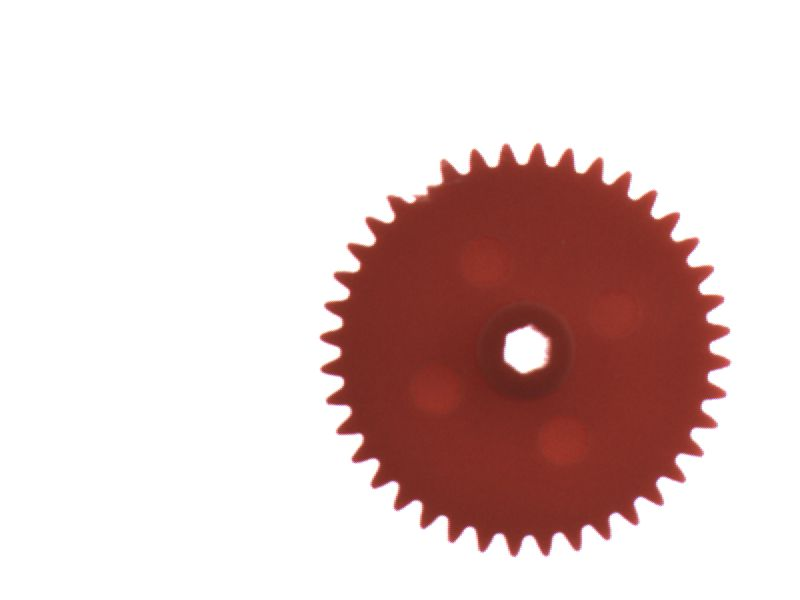defect_lack: (388, 156, 451, 203)
